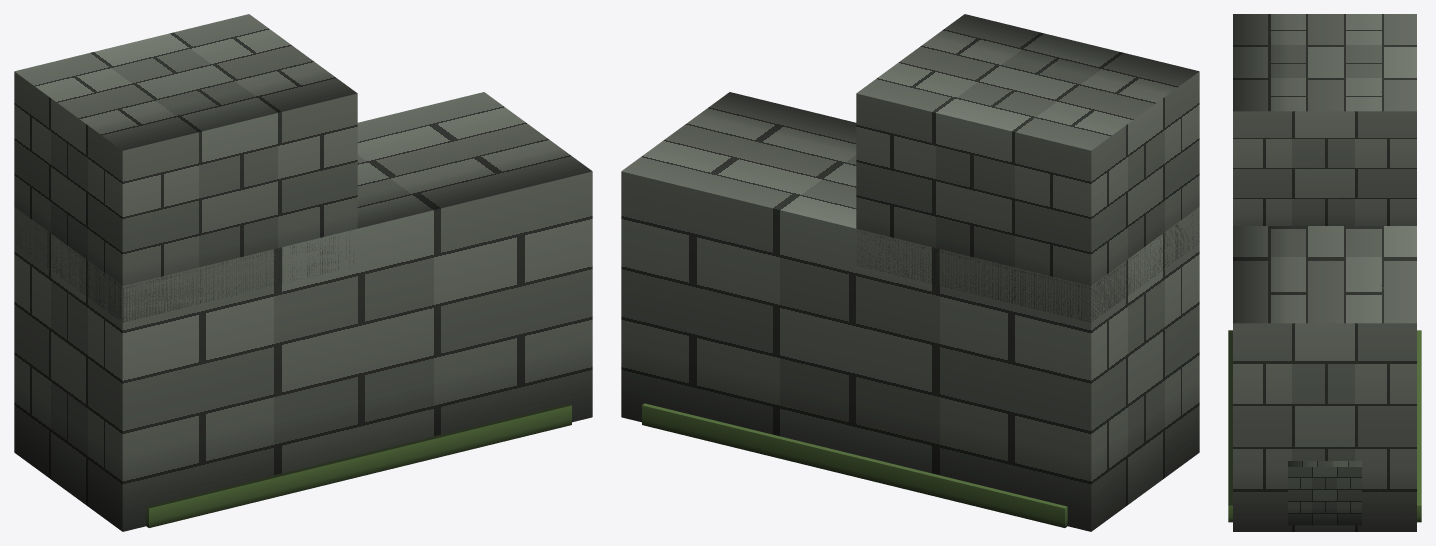
File: wall_ruined.glb
3 views of the same model, side by side, from view 1: azimuth 30°, elevation 25°; view 2: azimuth 150°, elevation 25°; view 3: azimuth 270°, elevation 25° (orthographic). The views are drawn at different scales.
Visible parts, largest first — view 1: wall_ruined; view 2: wall_ruined; view 3: wall_ruined.
Part boxes in pixels (bbox=[...]): wall_ruined: bbox=[14, 14, 592, 531]; wall_ruined: bbox=[621, 14, 1199, 531]; wall_ruined: bbox=[1228, 14, 1421, 531].
Size of the model in its own units: 1.03 by 0.775 by 0.42.
Materials: 1 (1 with a texture image).
